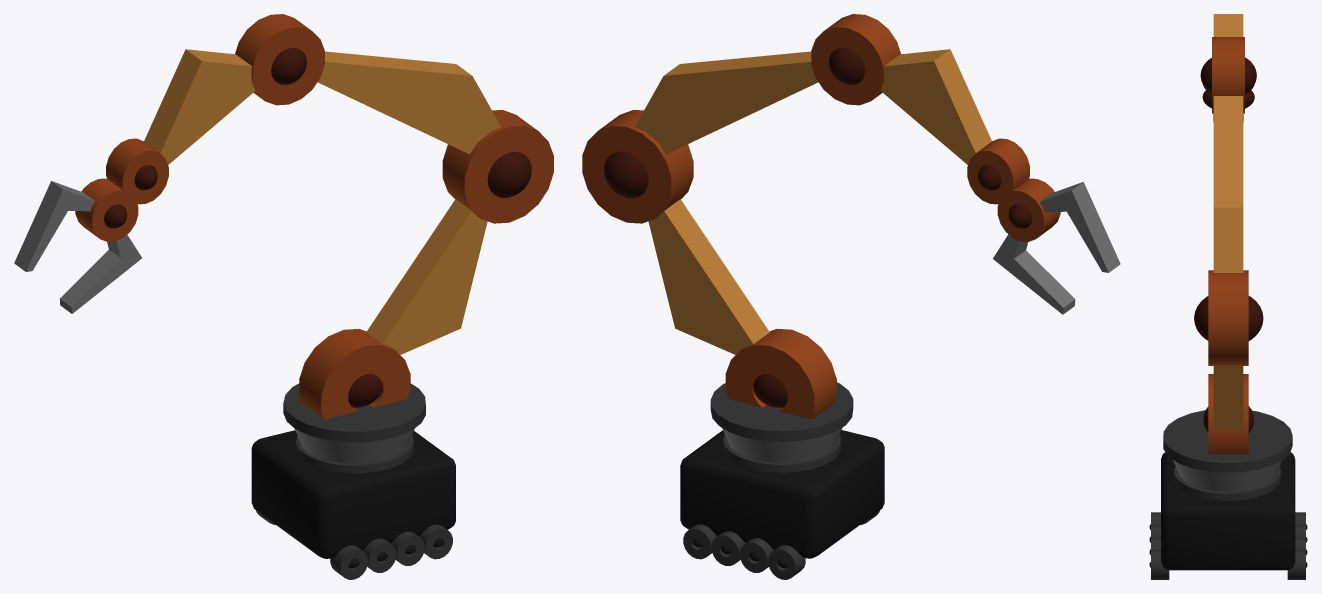
3 views of the same model, side by side, from view 1: azimuth 30°, elevation 25°; view 2: azimuth 150°, elevation 25°; view 3: azimuth 270°, elevation 25° (orthographic). The views are drawn at different scales.
Parts seen in each view (by area): view 1: ChamferBox001, Prism002, Prism001, Prism003, Tube013, Tube012, Tube014, Cylinder001, L-Ext001, Tube015, L-Ext002, Cone001 (+9 smaller); view 2: ChamferBox001, Prism002, Prism001, Prism003, Tube013, Tube012, Tube014, Cylinder001, L-Ext001, Tube015, L-Ext002, Cone001 (+9 smaller); view 3: ChamferBox001, Prism002, Cylinder001, Tube013, Tube014, Prism001, Cone001, Tube012, Cylinder002, Sphere002, Prism003, Sphere003 (+4 smaller).
Part boxes in pixels (x1=…): ChamferBox001: x1=251, y1=430, x2=455, y2=558; Prism002: x1=318, y1=51, x2=500, y2=154; Prism001: x1=366, y1=199, x2=487, y2=354; Prism003: x1=144, y1=49, x2=255, y2=164; Tube013: x1=442, y1=110, x2=553, y2=223; Tube012: x1=299, y1=329, x2=410, y2=419; Tube014: x1=235, y1=14, x2=324, y2=105; Cylinder001: x1=283, y1=383, x2=425, y2=442; L-Ext001: x1=14, y1=181, x2=95, y2=271; Tube015: x1=106, y1=138, x2=168, y2=204; L-Ext002: x1=59, y1=234, x2=141, y2=313; Cone001: x1=294, y1=428, x2=414, y2=463; ChamferBox001: x1=680, y1=430, x2=884, y2=558; Prism002: x1=635, y1=51, x2=818, y2=154; Prism001: x1=648, y1=199, x2=769, y2=354; Prism003: x1=880, y1=49, x2=991, y2=164; Tube013: x1=582, y1=110, x2=693, y2=223; Tube012: x1=725, y1=329, x2=836, y2=419; Tube014: x1=811, y1=14, x2=900, y2=105; Cylinder001: x1=710, y1=382, x2=853, y2=441; L-Ext001: x1=1039, y1=182, x2=1120, y2=272; Tube015: x1=967, y1=138, x2=1029, y2=204; L-Ext002: x1=993, y1=234, x2=1075, y2=314; Cone001: x1=722, y1=427, x2=842, y2=462; ChamferBox001: x1=1161, y1=452, x2=1295, y2=570; Prism002: x1=1213, y1=96, x2=1243, y2=272; Cylinder001: x1=1163, y1=410, x2=1292, y2=472; Tube013: x1=1208, y1=270, x2=1248, y2=365; Tube014: x1=1212, y1=37, x2=1244, y2=113; Prism001: x1=1213, y1=366, x2=1243, y2=429; Cone001: x1=1173, y1=460, x2=1281, y2=491; Tube012: x1=1208, y1=374, x2=1248, y2=454; Cylinder002: x1=1174, y1=466, x2=1280, y2=500; Sphere002: x1=1194, y1=296, x2=1263, y2=340; Prism003: x1=1213, y1=14, x2=1243, y2=36; Sphere003: x1=1200, y1=57, x2=1256, y2=93.
Size of the model in its own units: 64.6 by 63.24 by 18.62.
